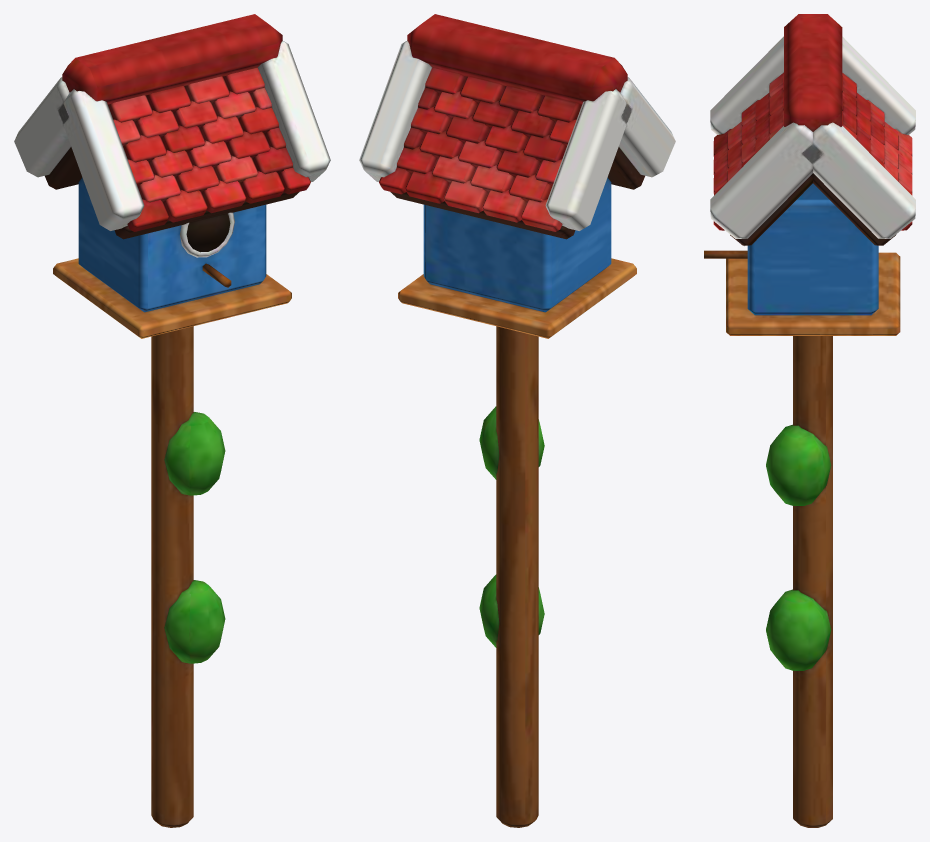
Rendered from bird_house.glb.
3 views of the same model, side by side, from view 1: azimuth 30°, elevation 25°; view 2: azimuth 150°, elevation 25°; view 3: azimuth 270°, elevation 25° (orthographic).
Parts seen in each view (by area): view 1: bird_house; view 2: bird_house; view 3: bird_house.
Boxes of the visible parts, x1,y1,x2,y2 form: bird_house: [14, 14, 330, 827]; bird_house: [359, 14, 675, 827]; bird_house: [704, 14, 915, 827].
Size of the model in its own units: 0.34 by 1.16 by 0.2914.
Materials: 1 (1 with a texture image).
